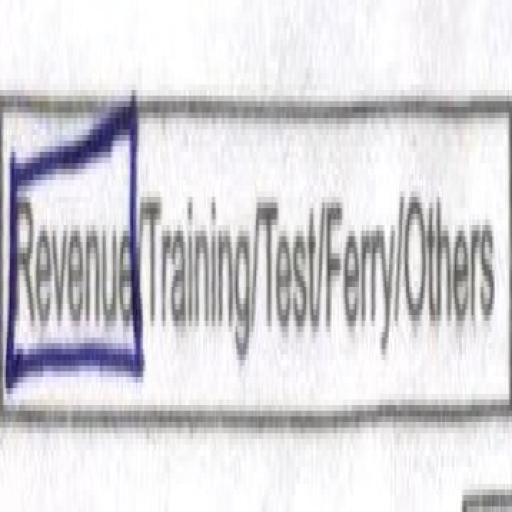check: (0, 60, 145, 476)
